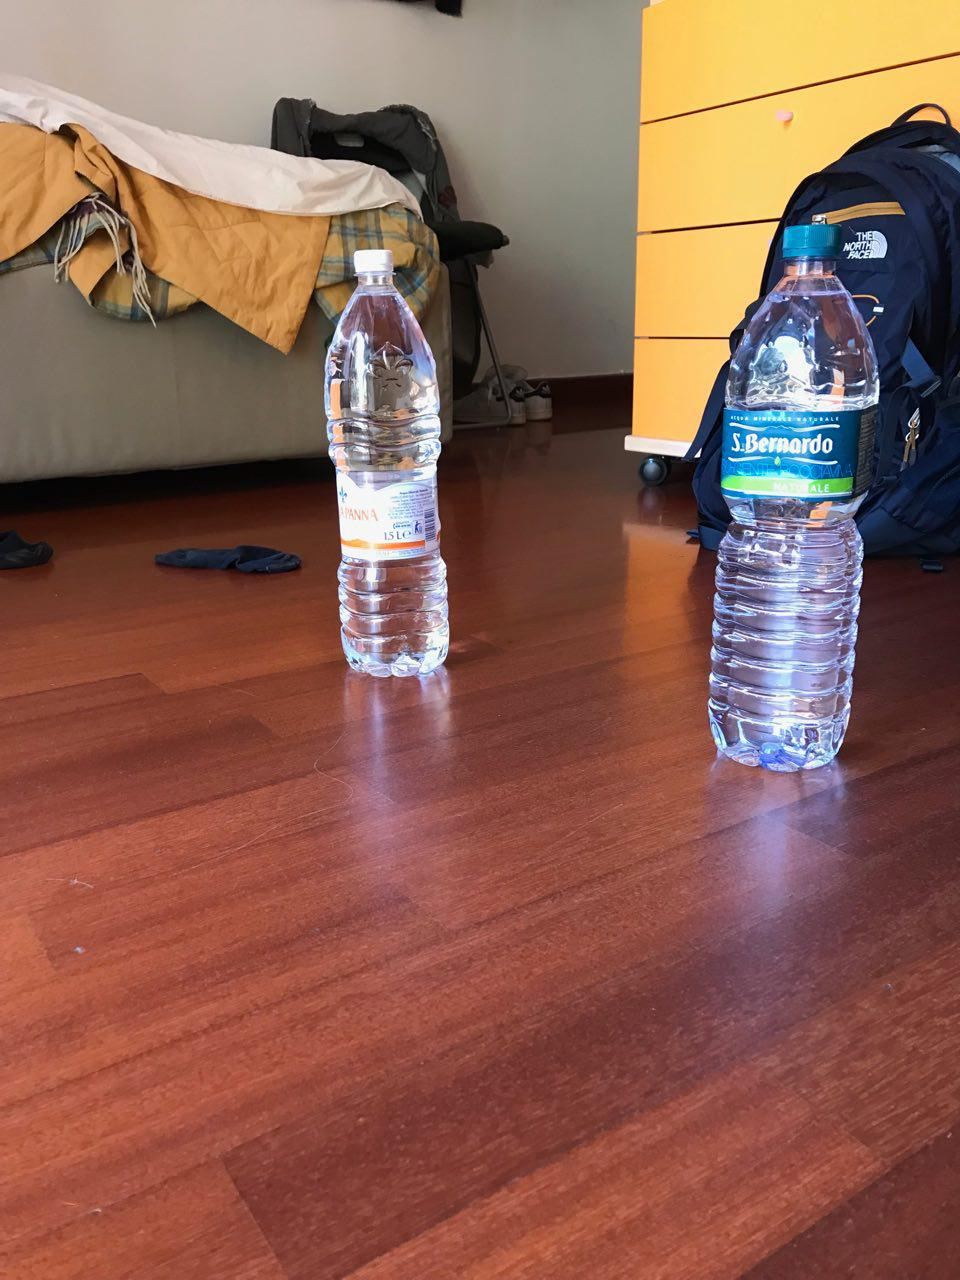san_bernardo: (705, 221, 881, 773)
